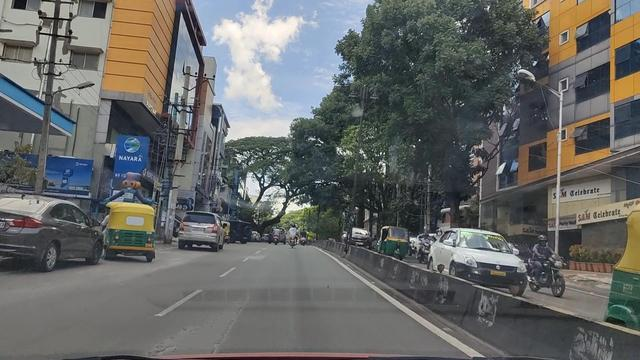LMV: (9, 196, 113, 267), (92, 208, 162, 262)
RoadDamages: (158, 290, 250, 355)
